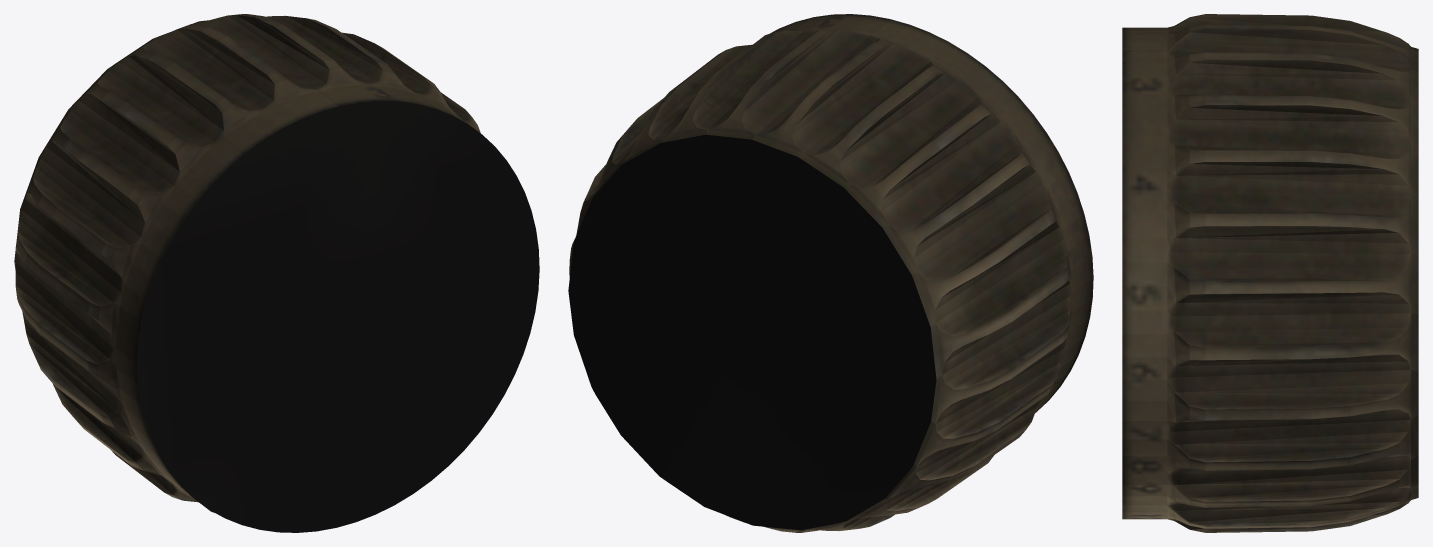
The picture shows the model from 3 angles, left to right: view 1: azimuth 30°, elevation 25°; view 2: azimuth 150°, elevation 25°; view 3: azimuth 270°, elevation 25°; orthographic projection. The views are drawn at different scales.
Parts seen in each view (by area): view 1: TW_61714eec290d254f5e6b2ffc_PZ_Import; view 2: TW_61714eec290d254f5e6b2ffc_PZ_Import; view 3: TW_61714eec290d254f5e6b2ffc_PZ_Import.
Part boxes in pixels (x1,y1,x2,y2): TW_61714eec290d254f5e6b2ffc_PZ_Import: (14, 14, 539, 532); TW_61714eec290d254f5e6b2ffc_PZ_Import: (568, 14, 1093, 532); TW_61714eec290d254f5e6b2ffc_PZ_Import: (1122, 14, 1418, 532).
Bounding box in the file's own units: 0.0298 × 0.0171 × 0.0298.
Materials: 1 (1 with a texture image).
